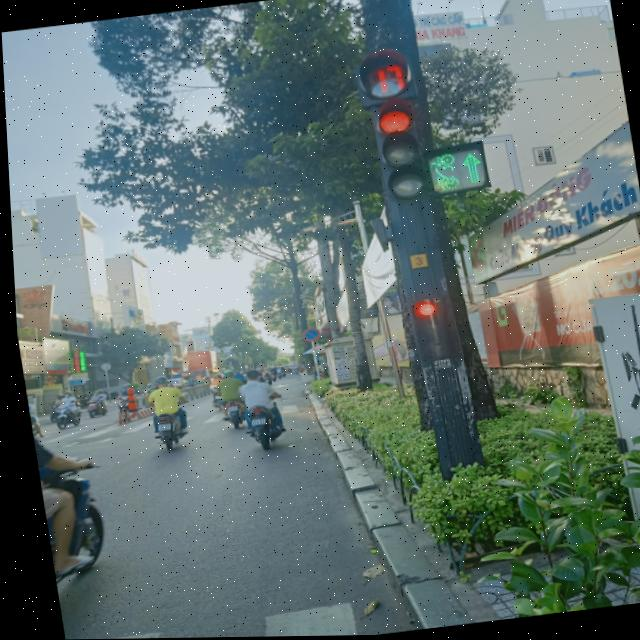Red: (358, 95, 433, 207), (398, 293, 455, 368)
